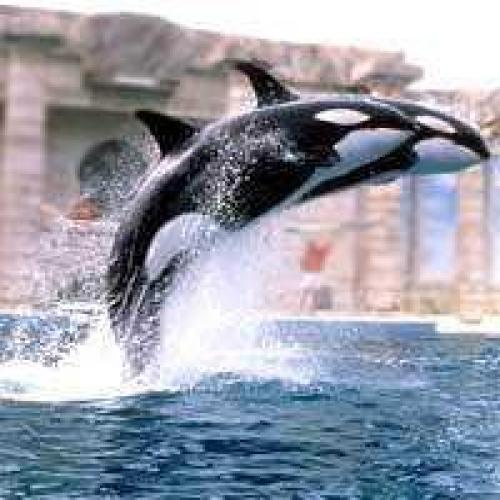killer_whale-endangered: (90, 93, 414, 327), (196, 48, 491, 221)
